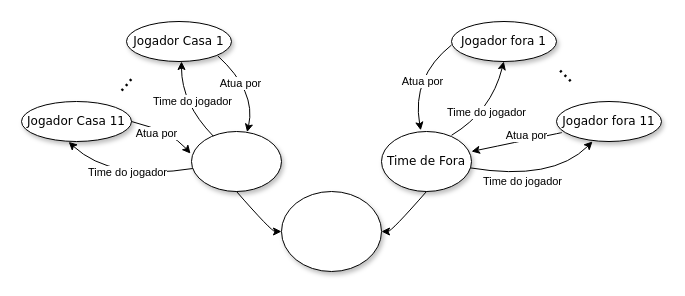
The diagram is 685 pixels wide and 296 high, and some of its shapes have lost their labels. The shapes that lost their labels are listed below. From the top down, each one's centre as x and y in pixels, then its label:
(237,162): Time da Casa
(332,232): Representação da Partida
